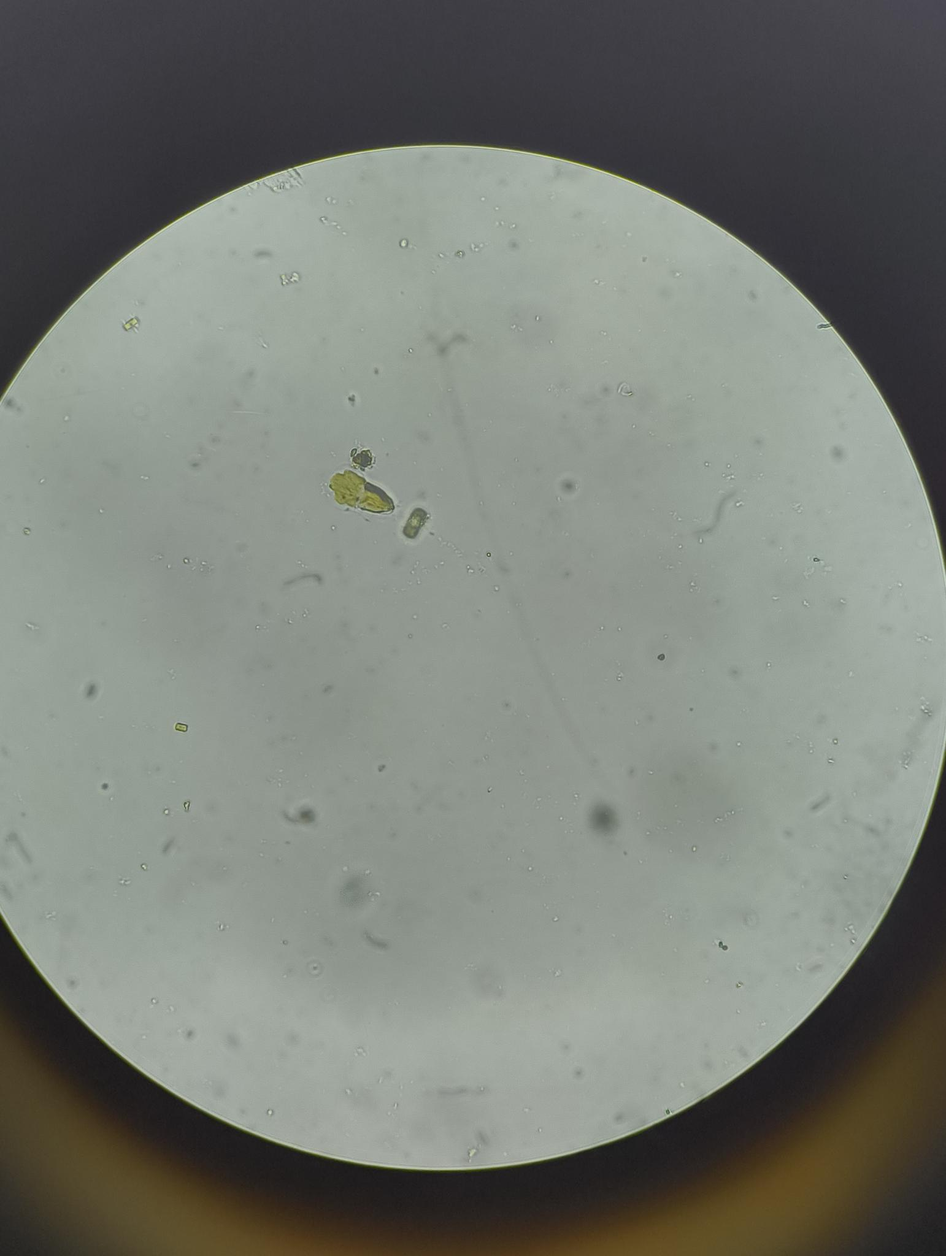Euglena: (320, 463, 399, 522)
